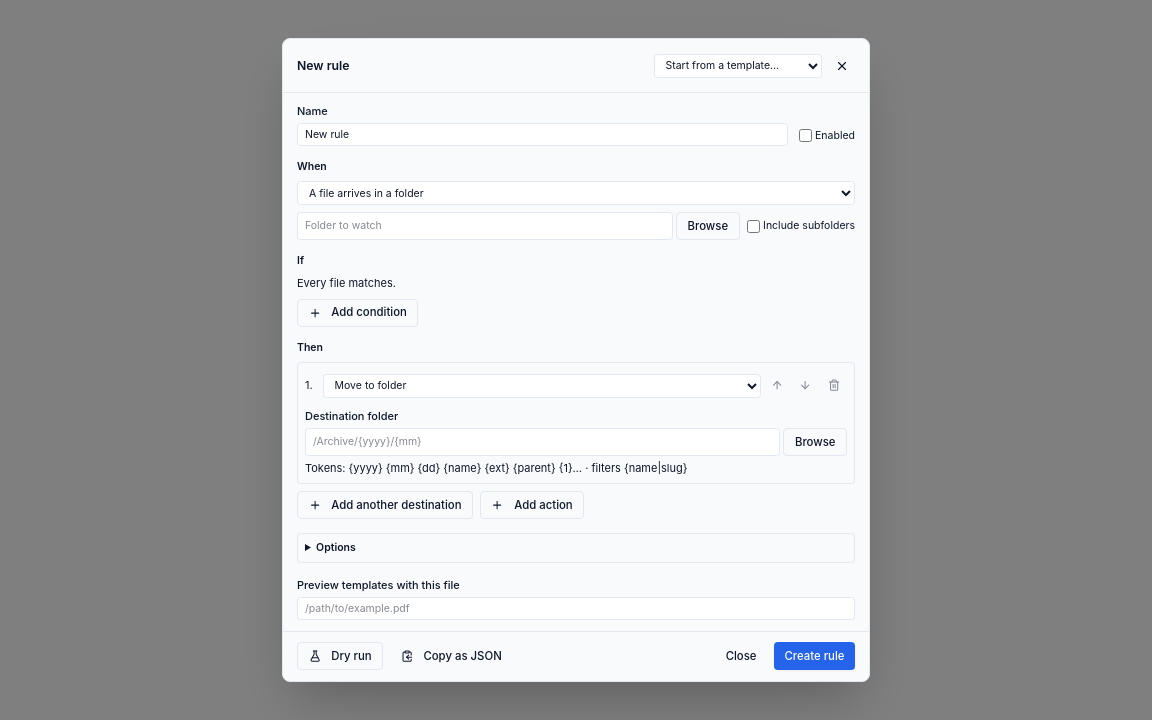
AutomationRuleEditor › dry-runs the unsaved form and shows the outcome
In the field labelled "Folder to watch": (485, 226) left=297, top=212, right=672, bottom=240, type "/in"
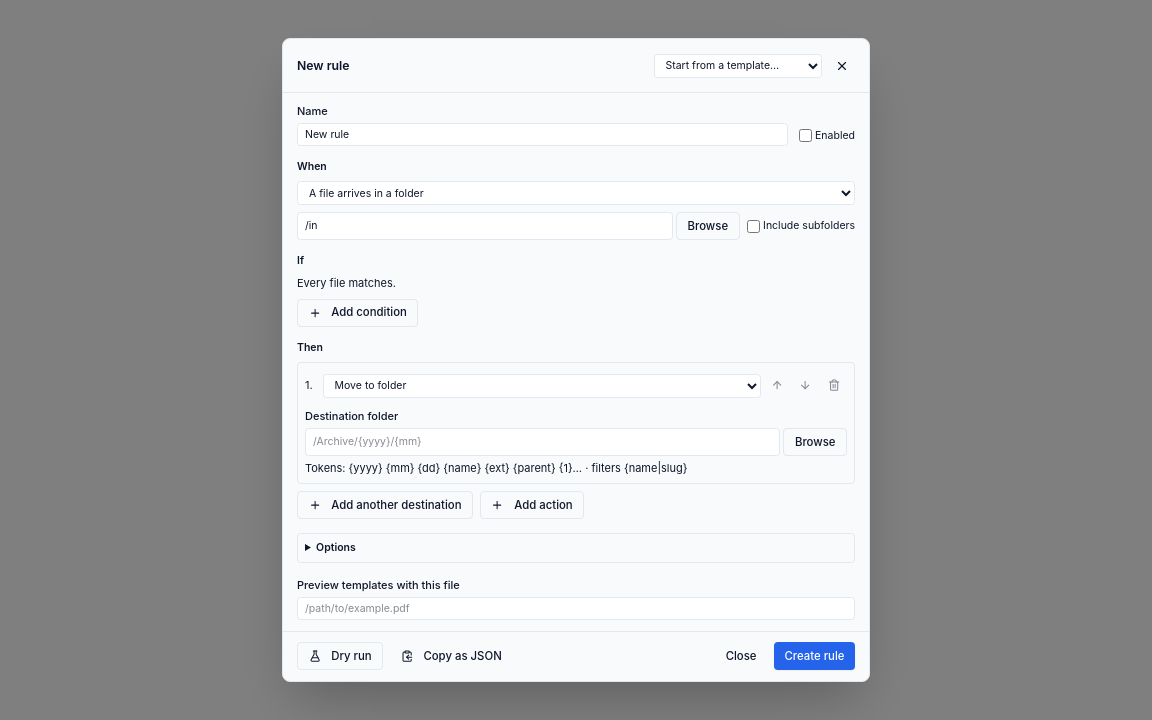
In the field labelled "Destination folder": (542, 442) left=305, top=428, right=780, bottom=456, type "/out"
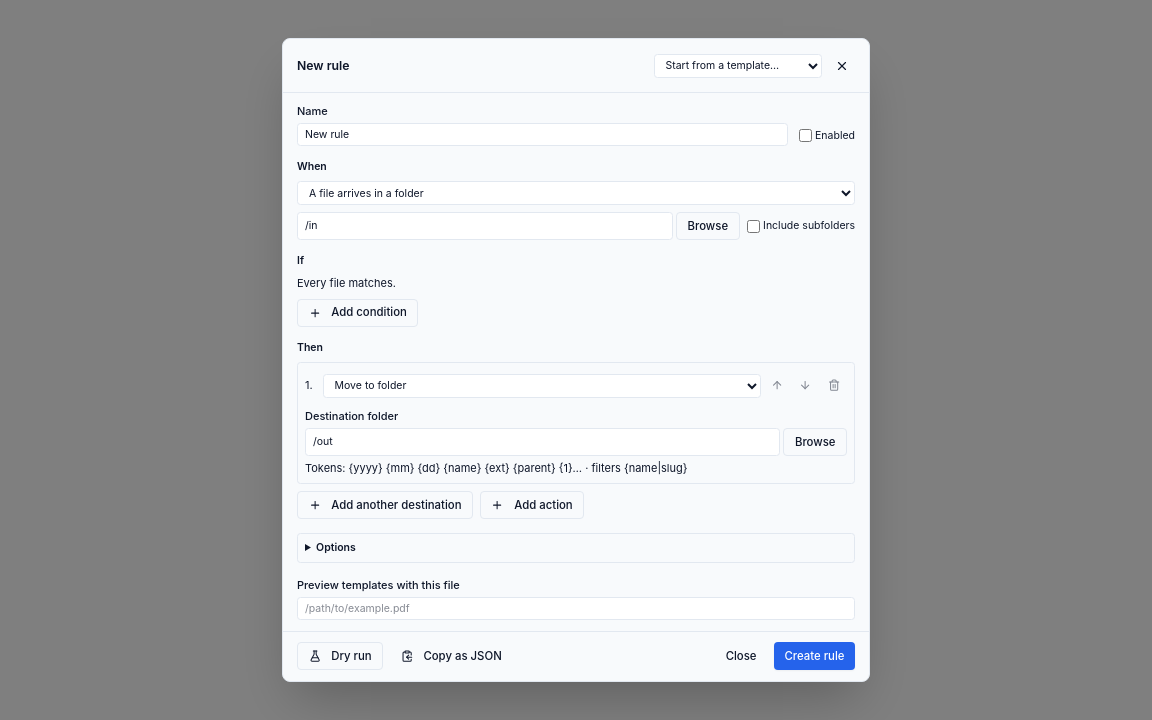
Click the button "Dry run": (340, 656) left=297, top=642, right=383, bottom=670
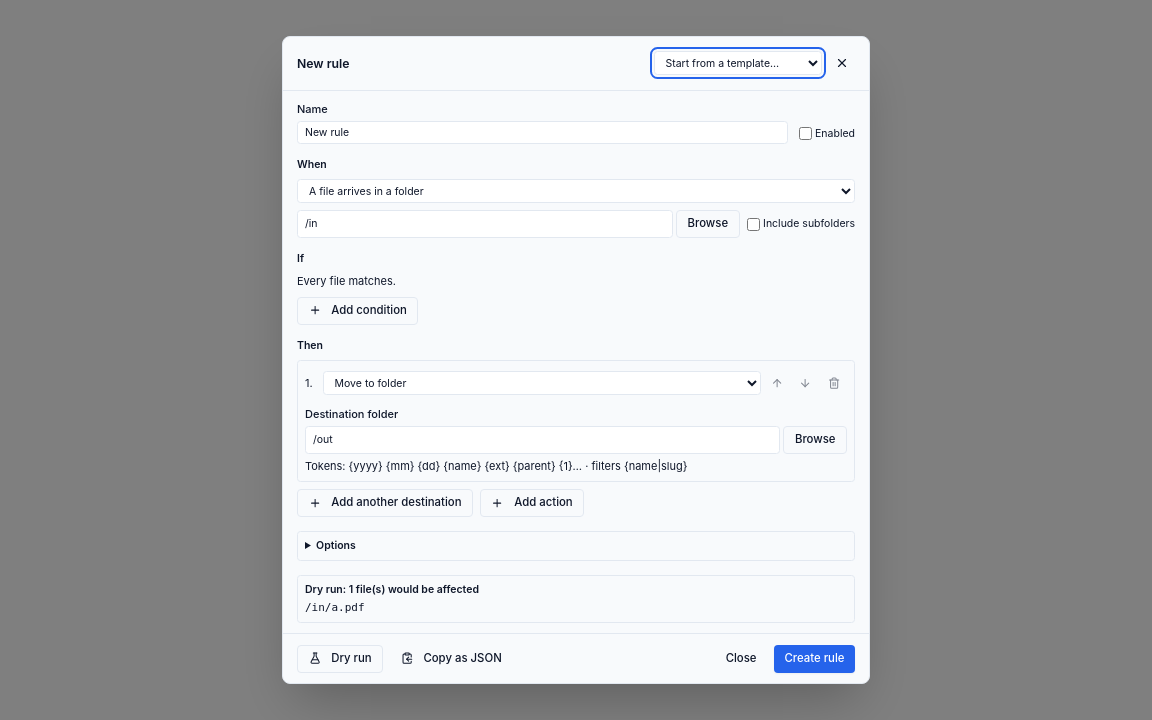
Check: the button "/in/a.pdf" is shown, box left=305, top=600, right=365, bottom=615
